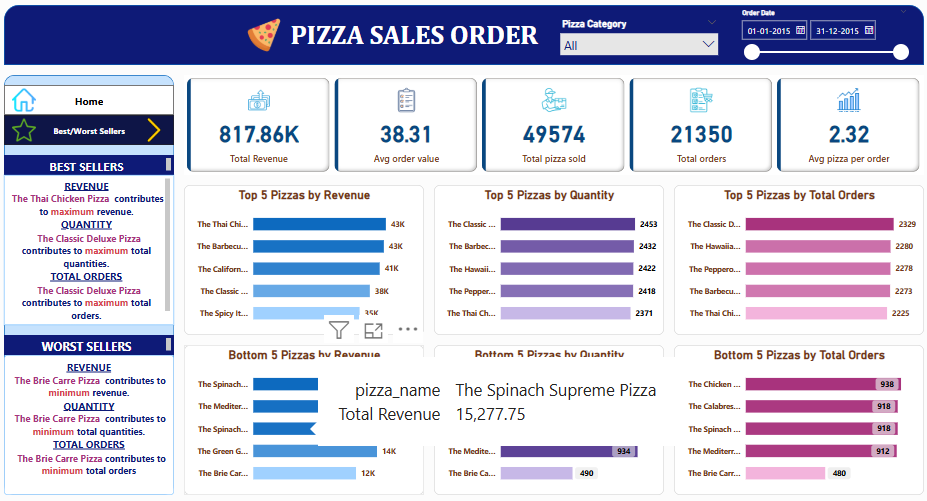

This screenshot's page, from the dashboard's own definition file:
{"tool":"powerbi","page":{"name":"Best/Worst Sellers","canvas":[1500,820],"ordinal":1},"visuals":[{"type":"shape","box":[16,128,272,672],"z":0},{"type":"cardVisual","fields":{"Data":["public pizza_data.Total_Revenue","public pizza_data.avg_order_value","public pizza_data.total_pizza_sold","public pizza_data.total_orders","public pizza_data.avg_pizza_per_order"]},"box":[304,128,1184,160],"z":1000},{"type":"shape","box":[16,16,1472,96],"z":2000},{"type":"textbox","box":[448,32,448,64],"z":3000},{"type":"image","box":[384,32,96,64],"z":4000},{"type":"barChart","title":"Top 5 Pizzas by Revenue","fields":{"Category":["public pizza_data.pizza_name"],"Y":["public pizza_data.Total Revenue"]},"box":[304,304,384,240],"z":5000},{"type":"textbox","box":[16,256,272,32],"z":6000},{"type":"textbox","box":[16,288,272,240],"z":7000},{"type":"textbox","box":[16,544,272,32],"z":8000},{"type":"textbox","box":[16,576,272,224],"z":9000},{"type":"slicer","fields":{"Values":["public pizza_data.pizza_category"]},"box":[896,32,272,64],"z":10000},{"type":"slicer","fields":{"Values":["public pizza_data.order_date"]},"box":[1184,16,288,112],"z":11000},{"type":"barChart","title":"Bottom 5 Pizzas by Revenue","fields":{"Category":["public pizza_data.pizza_name"],"Y":["public pizza_data.Total Revenue"]},"box":[304,560,384,240],"z":12000},{"type":"barChart","title":"Top 5 Pizzas by Quantity","fields":{"Category":["public pizza_data.pizza_name"],"Y":["public pizza_data.Total pizza sold"]},"box":[704,304,368,240],"z":13000},{"type":"barChart","title":"Bottom 5 Pizzas by Quantity","fields":{"Category":["public pizza_data.pizza_name"],"Y":["public pizza_data.Total pizza sold"]},"box":[704,560,368,240],"z":14000},{"type":"barChart","title":"Top 5 Pizzas by Total Orders","fields":{"Category":["public pizza_data.pizza_name"],"Y":["public pizza_data.Total orders"]},"box":[1088,304,400,240],"z":15000},{"type":"barChart","title":"Bottom 5 Pizzas by Total Orders","fields":{"Category":["public pizza_data.pizza_name"],"Y":["public pizza_data.Total orders"]},"box":[1088,560,400,240],"z":16000},{"type":"pageNavigator","box":[16,192,272,48],"z":17000},{"type":"pageNavigator","box":[16,144,272,48],"z":17001},{"type":"image","box":[224,192,64,48],"z":17002},{"type":"image","box":[16,144,64,48],"z":17003},{"type":"image","box":[16,192,64,48],"z":17004}]}

Visuals, with their boxes in screenshot pixels (x1, y1, x2, y2), scaled from the page's 1500x820 canvas onto the 927x501 screenshot:
shape: [10,78,178,489]
cardVisual - public pizza_data.Total_Revenue x public pizza_data.avg_order_value: [188,78,920,176]
shape: [10,10,920,68]
textbox: [277,20,554,59]
image: [237,20,297,59]
"Top 5 Pizzas by Revenue" barChart: [188,186,425,332]
textbox: [10,156,178,176]
textbox: [10,176,178,323]
textbox: [10,332,178,352]
textbox: [10,352,178,489]
slicer - public pizza_data.pizza_category: [554,20,722,59]
slicer - public pizza_data.order_date: [732,10,910,78]
"Bottom 5 Pizzas by Revenue" barChart: [188,342,425,489]
"Top 5 Pizzas by Quantity" barChart: [435,186,662,332]
"Bottom 5 Pizzas by Quantity" barChart: [435,342,662,489]
"Top 5 Pizzas by Total Orders" barChart: [672,186,920,332]
"Bottom 5 Pizzas by Total Orders" barChart: [672,342,920,489]
pageNavigator: [10,117,178,147]
pageNavigator: [10,88,178,117]
image: [138,117,178,147]
image: [10,88,49,117]
image: [10,117,49,147]
